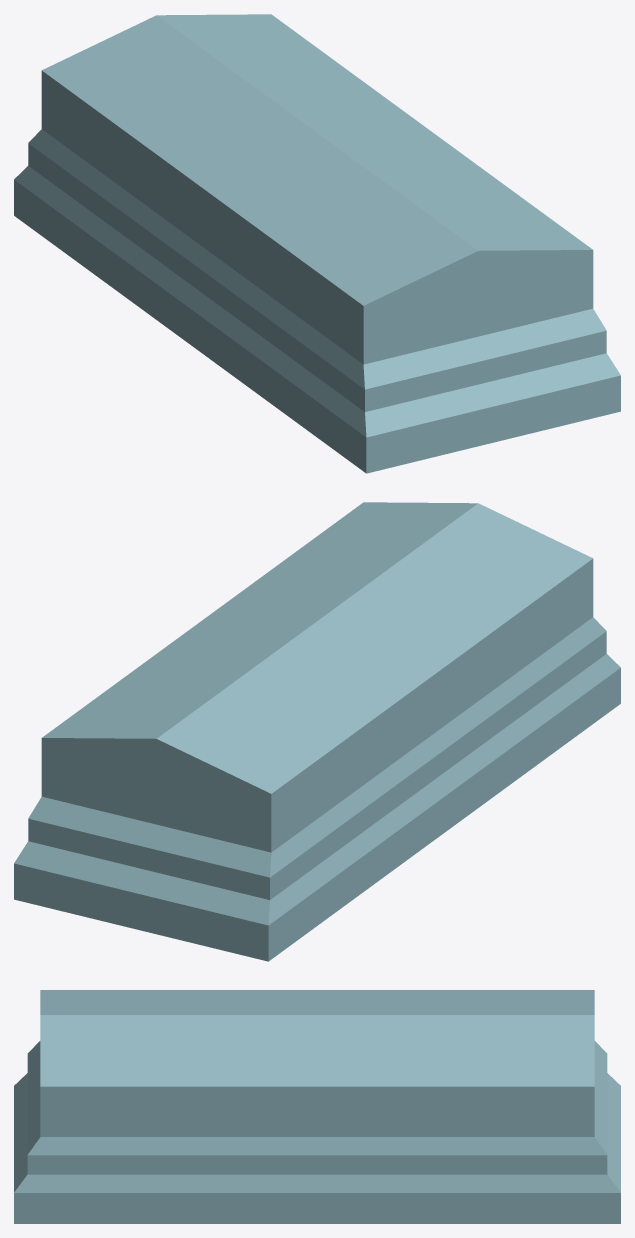
File: gravestoneFlat.fbx
3 renders of one model, top to bottom at view 1: azimuth 30°, elevation 25°; view 2: azimuth 150°, elevation 25°; view 3: azimuth 270°, elevation 25°, orthographic. The views are drawn at different scales.
Parts seen in each view (by area): view 1: gravestoneFlat; view 2: gravestoneFlat; view 3: gravestoneFlat.
Boxes of the visible parts, x1=… form: gravestoneFlat: x1=14, y1=14, x2=620, y2=473; gravestoneFlat: x1=14, y1=502, x2=620, y2=961; gravestoneFlat: x1=14, y1=990, x2=620, y2=1223.
Size of the model in its own units: 4.72 by 3.2 by 11.32.
